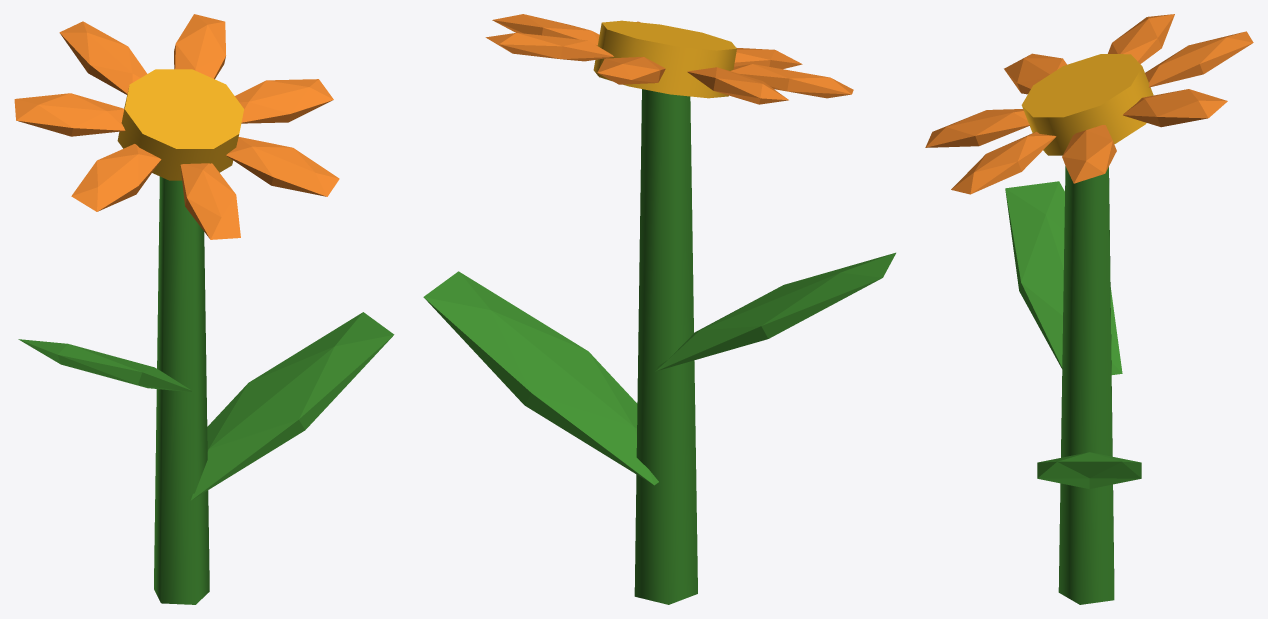
The model's file is silvestre.glb.
3 views of the same model, side by side, from view 1: azimuth 30°, elevation 25°; view 2: azimuth 150°, elevation 25°; view 3: azimuth 270°, elevation 25° (orthographic). The views are drawn at different scales.
Parts seen in each view (by area): view 1: tallo, hoja_1, centro, petalo_5, petalo_2, petalo_4, petalo_3, petalo_1, petalo_6, hoja_2, petalo_7; view 2: tallo, hoja_1, hoja_2, centro, petalo_7, petalo_4, petalo_5, petalo_1, petalo_6, petalo_3; view 3: tallo, centro, hoja_2, hoja_1, petalo_6, petalo_2, petalo_3, petalo_7, petalo_1, petalo_5, petalo_4.
Boxes of the visible parts, x1,y1,x2,y2 form: tallo: (154, 176, 209, 604); hoja_1: (186, 312, 394, 500); centro: (117, 69, 243, 180); petalo_5: (14, 93, 125, 136); petalo_2: (226, 137, 339, 196); petalo_4: (71, 144, 161, 211); petalo_3: (180, 163, 240, 239); petalo_1: (235, 79, 333, 123); petalo_6: (59, 21, 147, 94); hoja_2: (18, 339, 191, 391); petalo_7: (174, 14, 225, 79); tallo: (634, 89, 697, 604); hoja_1: (423, 271, 658, 485); hoja_2: (655, 252, 895, 371); centro: (593, 20, 736, 98); petalo_7: (485, 33, 613, 61); petalo_4: (730, 64, 853, 98); petalo_5: (687, 67, 788, 104); petalo_1: (492, 14, 599, 45); petalo_6: (597, 57, 665, 84); petalo_3: (734, 47, 802, 69); tallo: (1058, 166, 1114, 604); centro: (1021, 54, 1153, 155); hoja_2: (1005, 181, 1122, 374); hoja_1: (1037, 452, 1141, 488); petalo_6: (1145, 31, 1253, 87); petalo_2: (951, 131, 1056, 194); petalo_3: (925, 109, 1029, 147); petalo_7: (1123, 89, 1227, 127); petalo_1: (1062, 125, 1116, 183); petalo_5: (1108, 14, 1174, 63); petalo_4: (1004, 53, 1066, 94).
Bounding box in the file's own units: 0.352 × 0.4658 × 0.2563.
